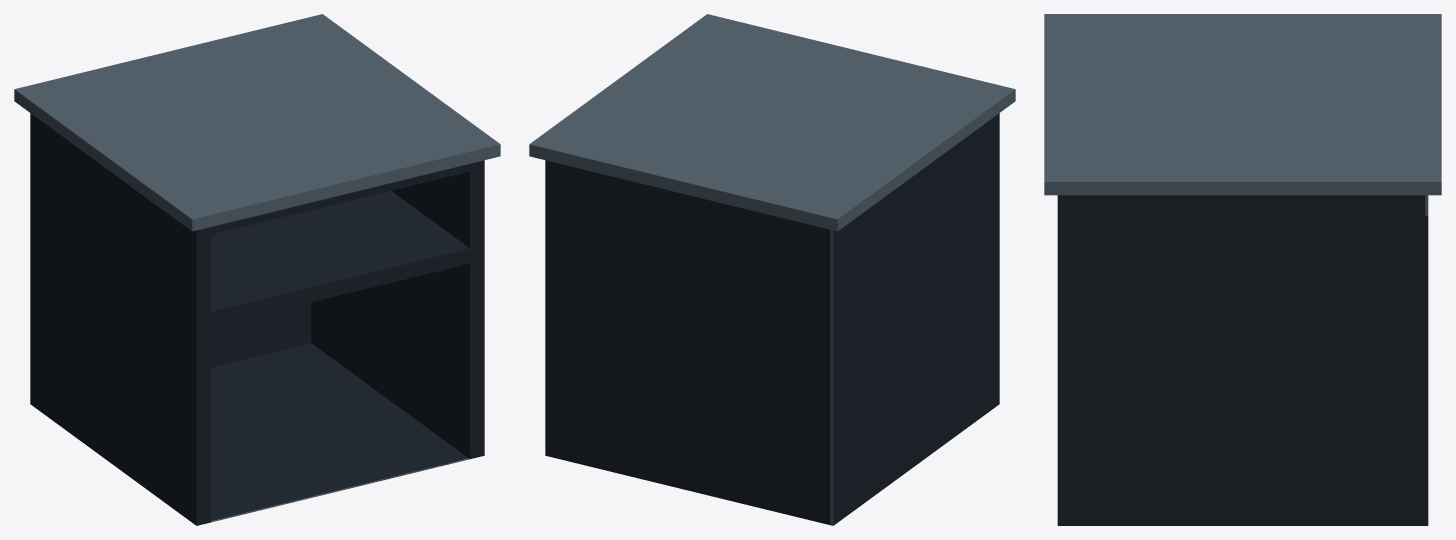
Rendered from drawer_base.fbx.
3 views of the same model, side by side, from view 1: azimuth 30°, elevation 25°; view 2: azimuth 150°, elevation 25°; view 3: azimuth 270°, elevation 25° (orthographic). The views are drawn at different scales.
Parts seen in each view (by area): view 1: Cube.001; view 2: Cube.001; view 3: Cube.001.
Boxes of the visible parts, x1,y1,x2,y2 form: Cube.001: (14, 14, 500, 525); Cube.001: (529, 14, 1015, 525); Cube.001: (1044, 14, 1441, 525).
Size of the model in its own units: 107 by 104 by 107.
